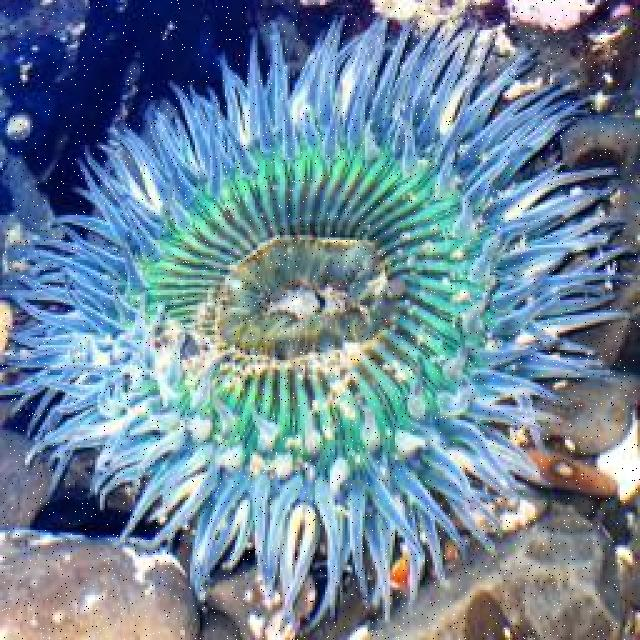reefs: (0, 15, 637, 633)
